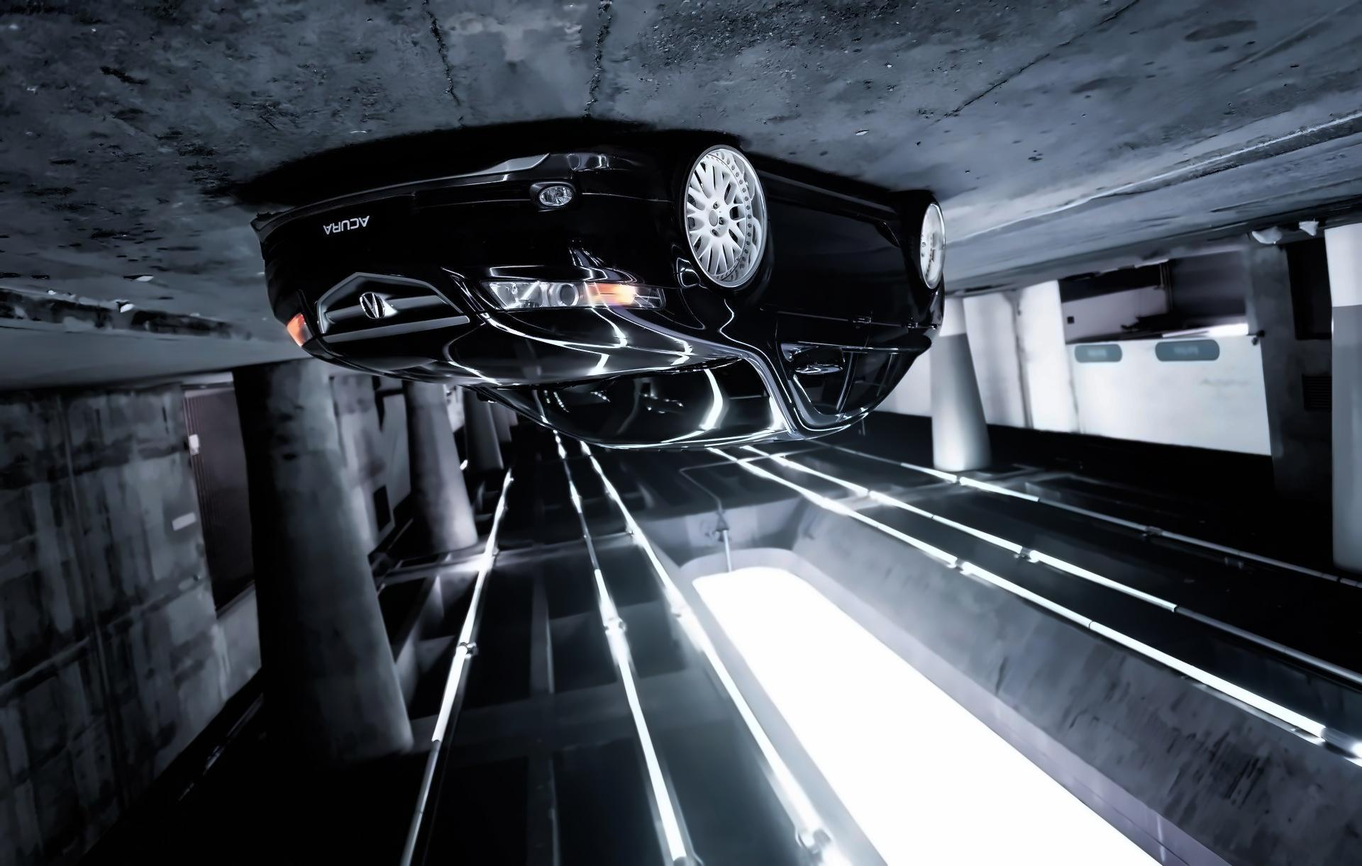Car hood: (297, 301, 742, 392)
Driver-s door - -F-R-: (774, 187, 875, 434)
Fender - -F-R-: (692, 165, 779, 363)
Front bumper: (249, 144, 689, 297)
Headlight - -L-: (275, 304, 321, 355)
Headlight - -R-: (457, 272, 667, 316)
Passenger-s door - -R-R-: (848, 188, 927, 432)
Side bumper - -R-: (753, 158, 919, 233)
Side mirror - -L-: (468, 376, 498, 409)
Side mirror - -R-: (779, 340, 853, 381)
